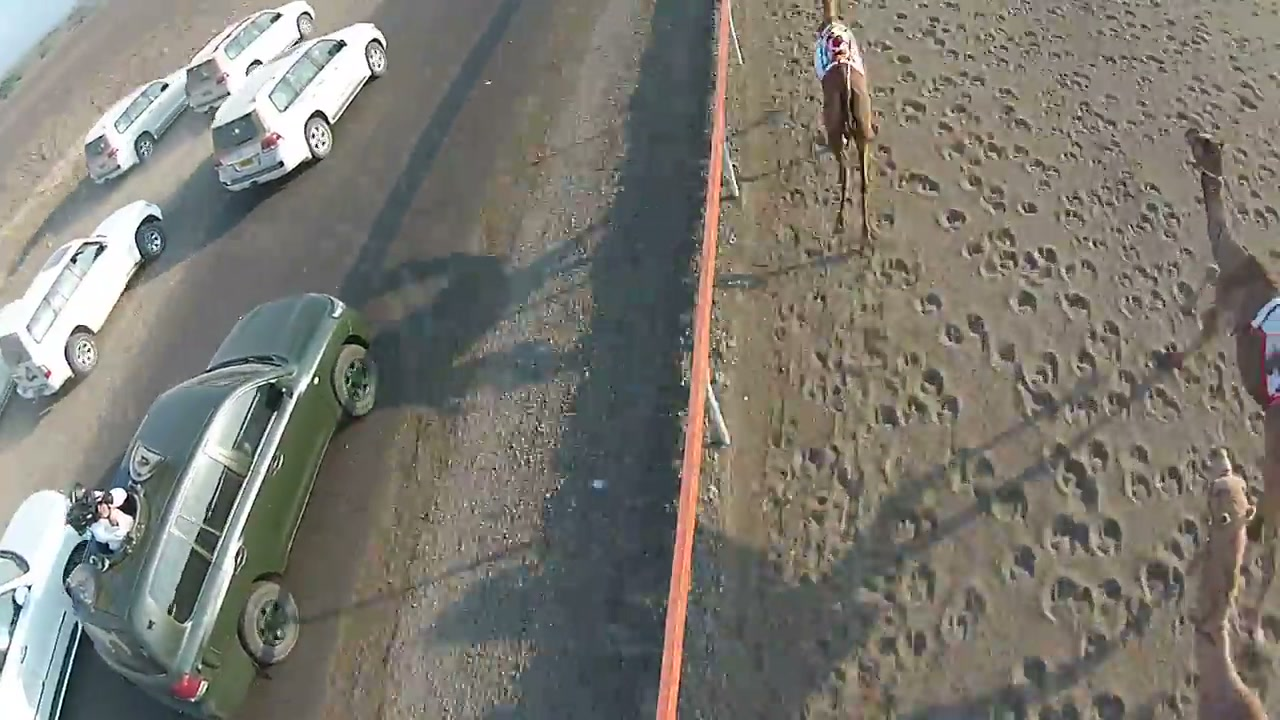animal_footprint: (858, 0, 1216, 611), (764, 446, 864, 576), (818, 571, 915, 671), (1040, 572, 1151, 659), (957, 656, 1075, 719), (893, 682, 1088, 719), (788, 344, 888, 412), (1138, 532, 1202, 636), (863, 576, 931, 671), (784, 491, 855, 579), (876, 352, 960, 426), (803, 650, 895, 717), (944, 133, 1007, 216), (1120, 443, 1193, 503), (830, 654, 895, 716), (833, 274, 886, 343), (934, 114, 982, 190), (1112, 228, 1159, 303), (1045, 512, 1122, 557), (1052, 185, 1119, 236), (833, 270, 886, 334), (938, 584, 989, 645), (1113, 442, 1166, 500), (769, 531, 829, 582), (1064, 343, 1101, 425), (920, 448, 973, 505), (1015, 351, 1061, 416), (1182, 353, 1231, 413), (1145, 340, 1203, 390), (962, 227, 1018, 278), (854, 569, 902, 628), (1145, 339, 1202, 388), (797, 371, 865, 412), (1007, 443, 1068, 488), (1089, 577, 1133, 639), (1060, 54, 1142, 87), (1041, 575, 1096, 623), (1053, 455, 1100, 511), (1232, 639, 1276, 696), (876, 381, 931, 426), (1233, 640, 1276, 697), (974, 480, 1029, 522), (947, 448, 995, 496), (877, 627, 930, 670), (766, 404, 798, 474), (788, 445, 841, 487), (919, 367, 959, 422), (1133, 203, 1184, 246), (866, 612, 903, 671), (1139, 557, 1186, 602), (768, 527, 806, 581), (1055, 191, 1103, 233), (806, 343, 873, 373), (1104, 369, 1145, 417), (889, 507, 938, 547), (974, 685, 1033, 717), (1046, 513, 1090, 555), (926, 71, 987, 101), (896, 561, 937, 605), (1165, 517, 1200, 568), (1059, 136, 1122, 164), (1085, 319, 1125, 363), (781, 224, 828, 260), (1231, 456, 1264, 505), (1134, 200, 1180, 235), (1232, 385, 1264, 435), (763, 465, 795, 515), (1055, 192, 1094, 233), (1119, 594, 1154, 639), (1019, 245, 1058, 285), (938, 133, 978, 171), (1154, 682, 1195, 719), (771, 302, 808, 343), (1185, 441, 1228, 476), (1123, 467, 1164, 503), (874, 257, 920, 289), (1061, 391, 1103, 426), (1014, 29, 1066, 57), (1001, 544, 1039, 582), (860, 325, 892, 370), (783, 183, 838, 209), (1121, 691, 1172, 719), (1014, 655, 1051, 693), (1061, 393, 1103, 426), (1114, 368, 1150, 406), (1146, 385, 1182, 422), (767, 526, 792, 579), (781, 186, 837, 209), (834, 459, 865, 500), (1177, 16, 1213, 51), (1097, 318, 1126, 361), (896, 170, 941, 197), (845, 148, 860, 229), (1092, 517, 1123, 556), (970, 132, 1010, 162), (806, 492, 840, 527), (1149, 253, 1183, 287), (1121, 99, 1156, 132), (1077, 628, 1114, 659), (1232, 77, 1265, 111), (1015, 29, 1053, 58), (1029, 699, 1084, 719), (965, 312, 991, 354), (1158, 465, 1193, 496), (1173, 367, 1209, 396), (921, 16, 952, 49), (1057, 290, 1091, 320), (1090, 691, 1126, 719), (1023, 157, 1060, 184), (797, 373, 830, 403), (1243, 202, 1279, 229), (1138, 179, 1171, 208), (984, 36, 1012, 70), (1061, 258, 1099, 283), (1244, 202, 1279, 229), (1085, 438, 1111, 474), (899, 629, 930, 659), (1240, 553, 1264, 591), (1046, 123, 1082, 148), (943, 93, 973, 123), (983, 225, 1019, 250), (1042, 442, 1073, 471), (1164, 537, 1195, 566), (768, 6, 817, 24), (803, 285, 831, 316), (979, 183, 1007, 214), (1254, 151, 1279, 185), (897, 98, 928, 125), (1169, 605, 1194, 638), (1240, 553, 1265, 586), (759, 107, 794, 129), (1174, 280, 1196, 315), (1210, 350, 1230, 388), (1055, 70, 1091, 91), (1055, 207, 1086, 231), (873, 202, 896, 234), (1118, 291, 1145, 318), (937, 208, 968, 231), (935, 395, 961, 422), (874, 144, 898, 173), (1118, 236, 1141, 265), (876, 404, 905, 427), (978, 192, 1007, 215), (942, 48, 977, 67), (1259, 613, 1279, 646), (810, 129, 830, 161), (996, 341, 1018, 370), (1073, 234, 1108, 252), (712, 333, 736, 359), (960, 168, 985, 192), (941, 323, 967, 346), (1144, 289, 1170, 312), (1127, 443, 1151, 467), (919, 291, 943, 314), (941, 322, 965, 345), (1255, 164, 1279, 185), (891, 11, 910, 34), (868, 38, 894, 54), (871, 84, 896, 100), (1009, 115, 1033, 131), (1016, 199, 1039, 215), (995, 86, 1018, 101), (1161, 227, 1181, 244), (1010, 143, 1030, 159), (898, 69, 918, 84), (890, 52, 913, 65), (1035, 177, 1053, 193)
